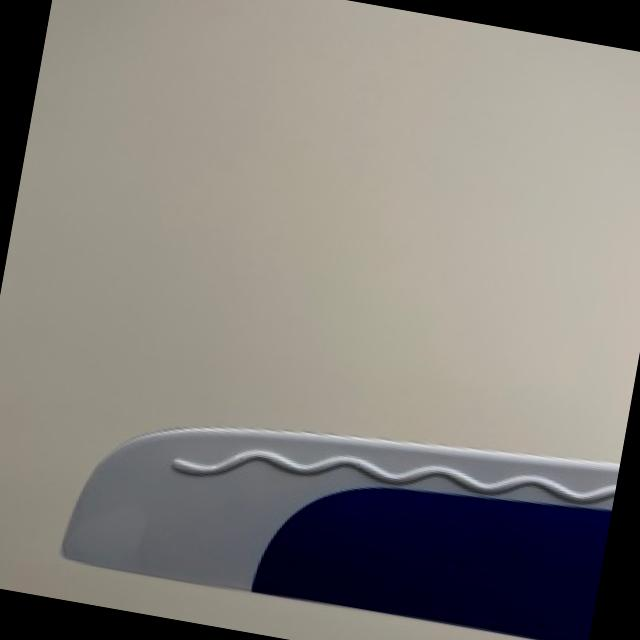healthy: (60, 426, 618, 640)
